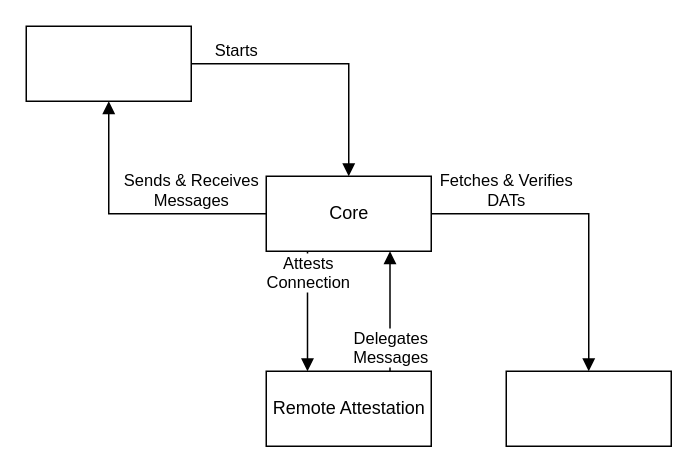
Some shapes in this 698 by 473 pixel diagram are drawn without their labels. Each missing label, with the box of its shape:
DAPS: (505, 370, 671, 446)
Secure Channel: (25, 25, 191, 101)
